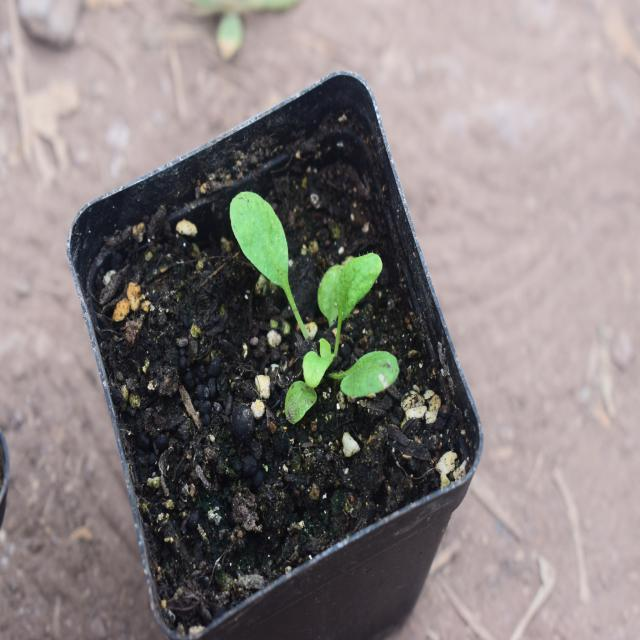Shepherd_Purse: (219, 154, 395, 434)
